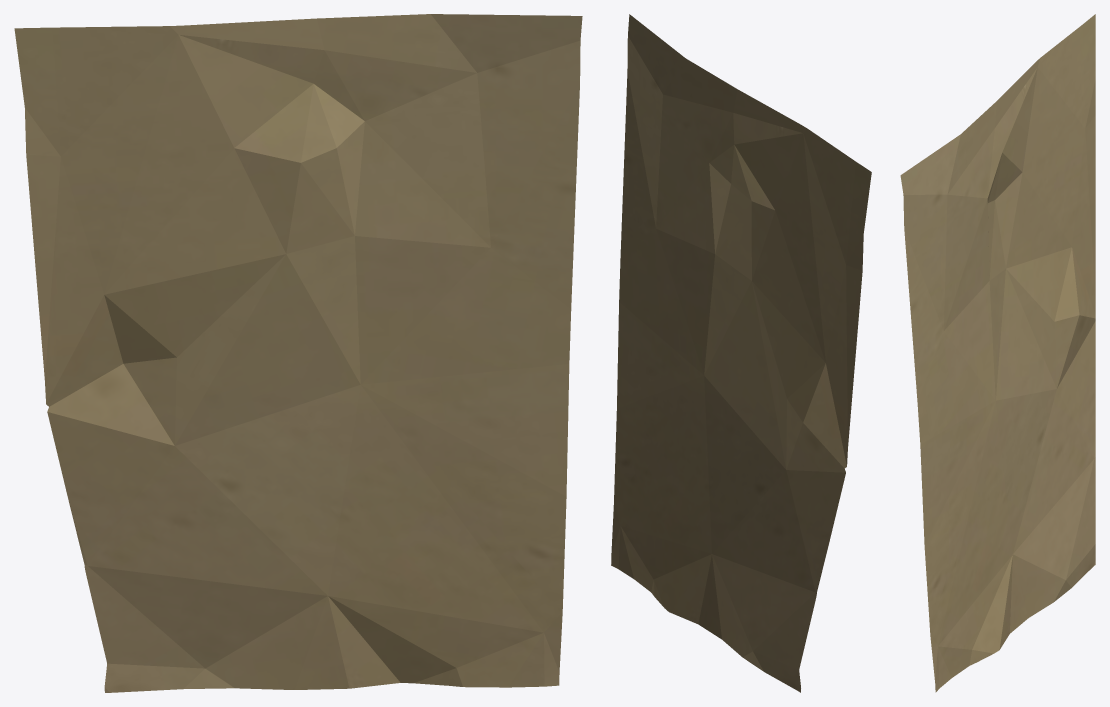
The picture shows the model from 3 angles, left to right: view 1: azimuth 30°, elevation 25°; view 2: azimuth 150°, elevation 25°; view 3: azimuth 270°, elevation 25°; orthographic projection. The views are drawn at different scales.
Size of the model in its own units: 0.5598 by 0.8373 by 0.2859.
Materials: 2 (2 with a texture image).
